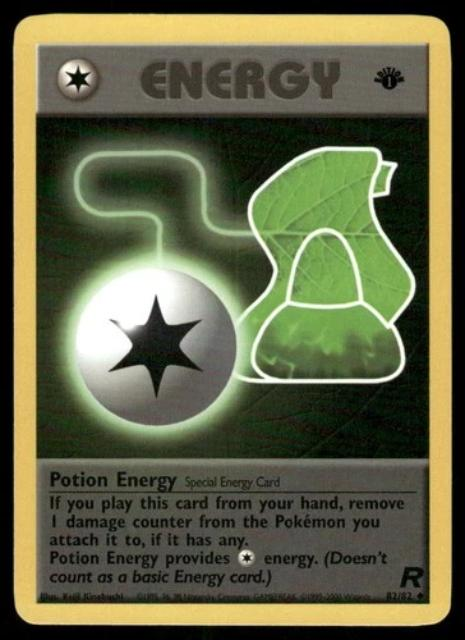Card: (6, 8, 460, 632)
Name: (45, 464, 184, 494)
